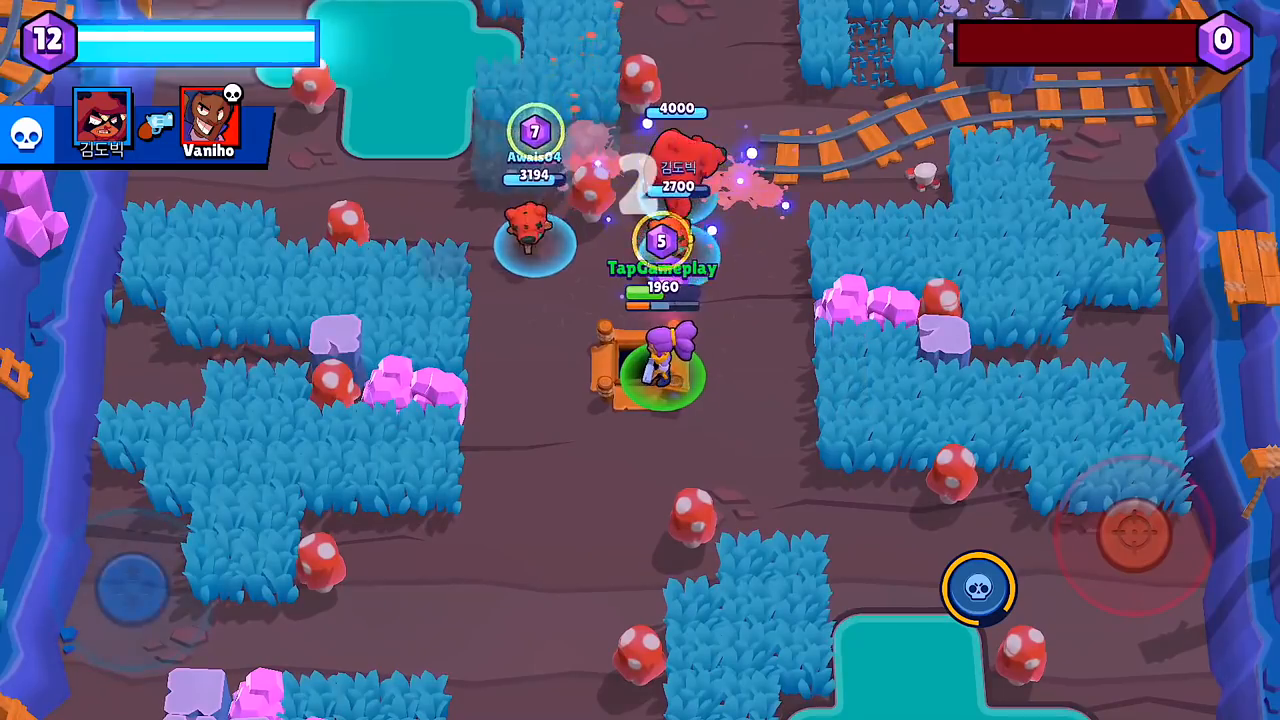move_stick: (99, 552, 173, 615)
